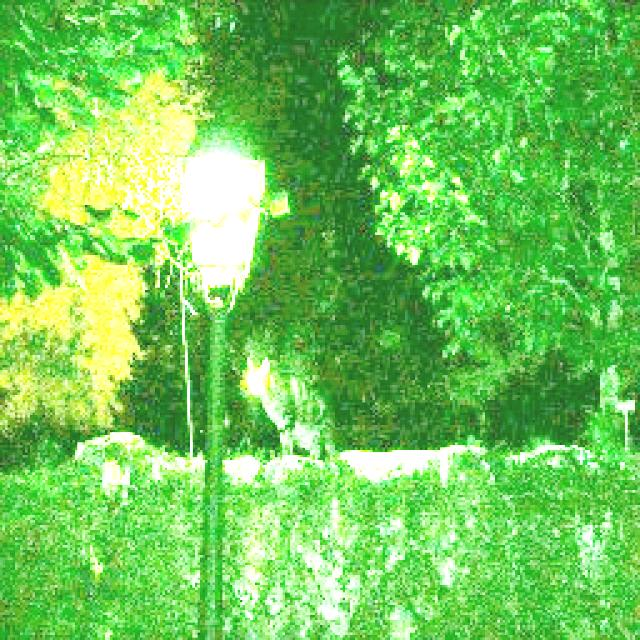cat: (244, 357, 342, 460)
